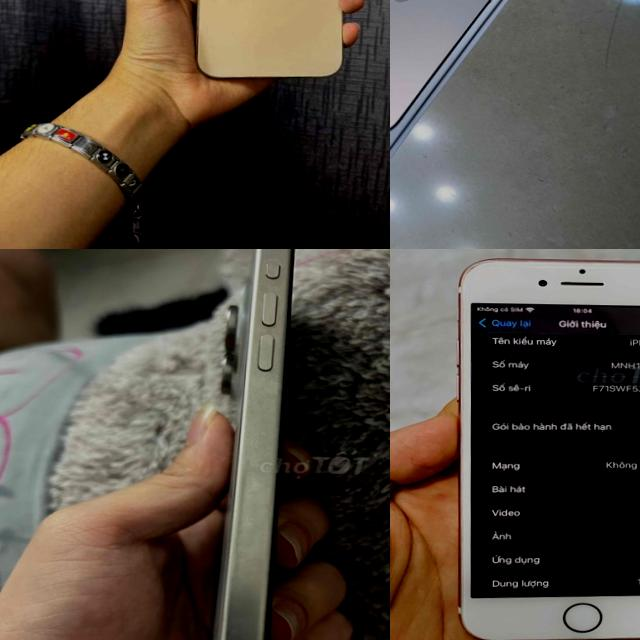gen_12_13: (185, 0, 356, 86)
gen_15: (195, 249, 321, 640)
gen_16: (390, 0, 549, 139)
gen_7_8: (441, 254, 640, 640)
scratch: (238, 440, 265, 573), (217, 610, 256, 640), (458, 261, 490, 278)
